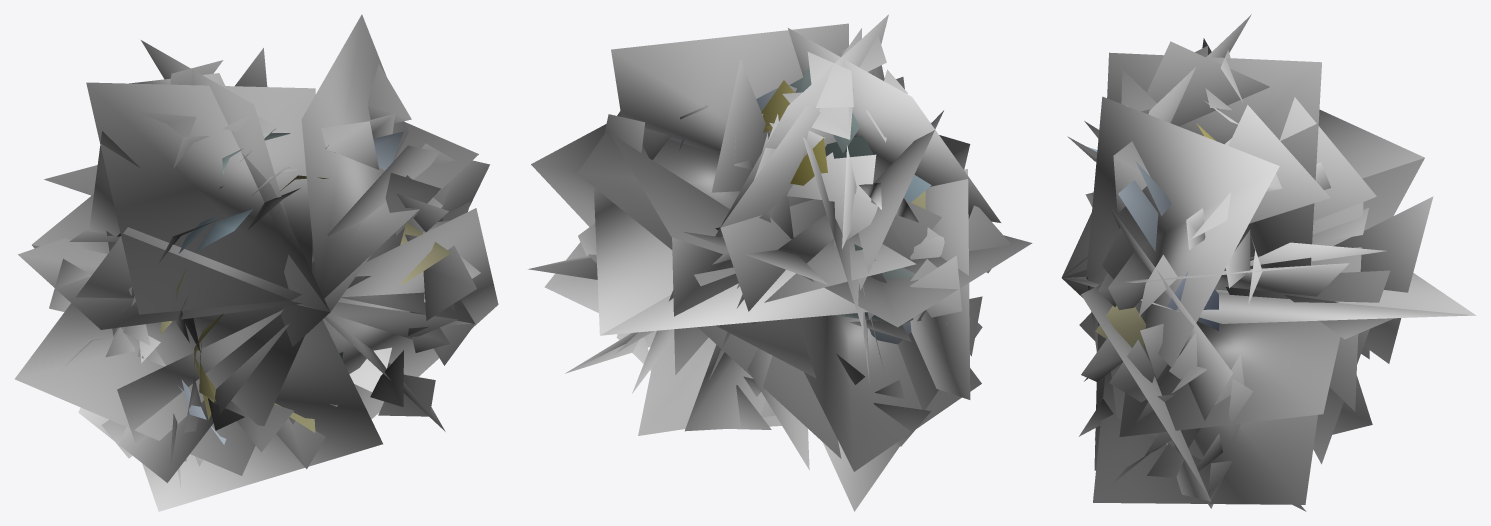
The model's file is SM_000018_tr063_leaf_07.fbx.
3 views of the same model, side by side, from view 1: azimuth 30°, elevation 25°; view 2: azimuth 150°, elevation 25°; view 3: azimuth 270°, elevation 25° (orthographic).
Parts seen in each view (by area): view 1: SM_000018.001; view 2: SM_000018.001; view 3: SM_000018.001.
Part boxes in pixels (x1=…): SM_000018.001: x1=15, y1=14, x2=498, y2=511; SM_000018.001: x1=528, y1=14, x2=1032, y2=511; SM_000018.001: x1=1061, y1=14, x2=1475, y2=511.
Size of the model in its own units: 2.75 by 2.62 by 2.18.
